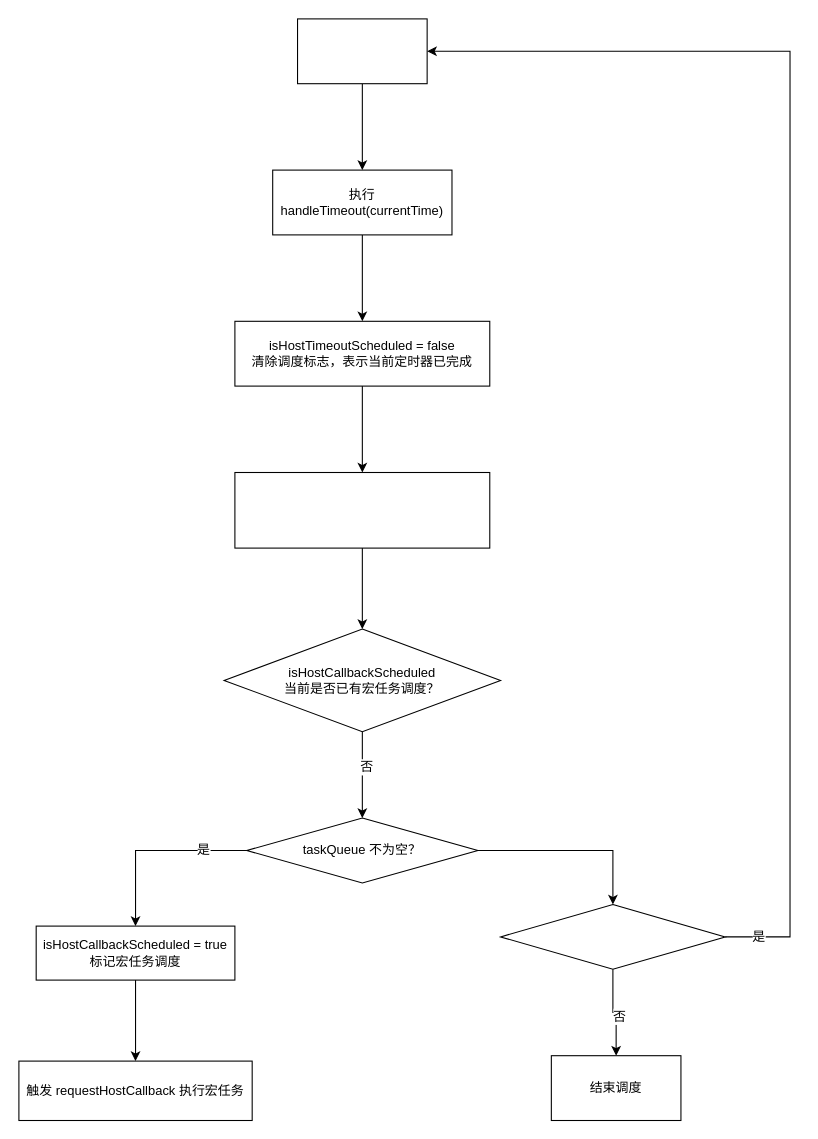
This 818x1139 diagram has some shape labels left out. The centre of each missing label's shape, as x and y in pixels:
"advanceTimers 到期任务从 timerQueue 推入 taskQueue" belongs at (x=362, y=509).
"timerQueue 是否还有等待任务？" belongs at (x=612, y=936).
"触发定时器 requestHostTimeout" belongs at (x=361, y=51).
